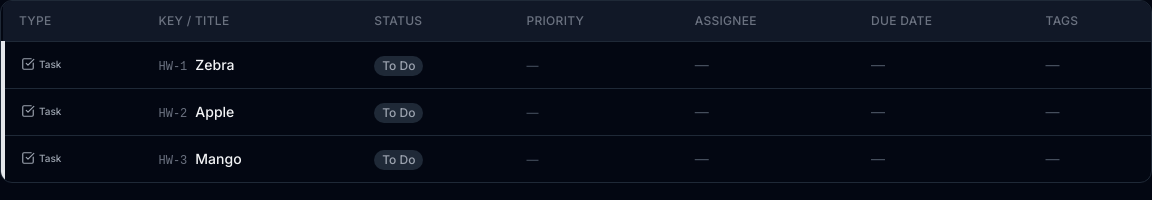
Test case: ListView › sorting › shows descending sort indicator on second click
The width and height of the screenshot is (1152, 200).
Click the text "Key / Title" at [194, 21], box [158,13,229,29]
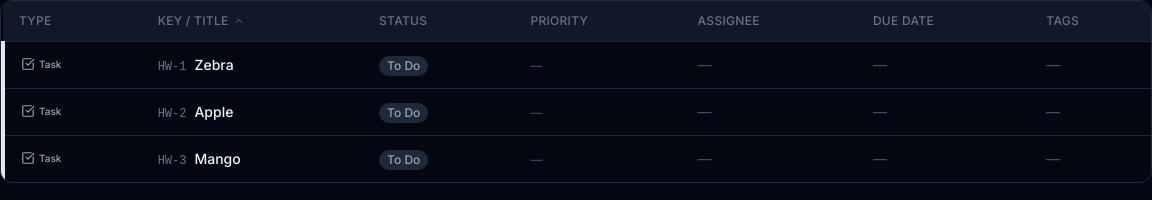
Click the text "Key / Title" at [201, 21], box [158,13,244,29]
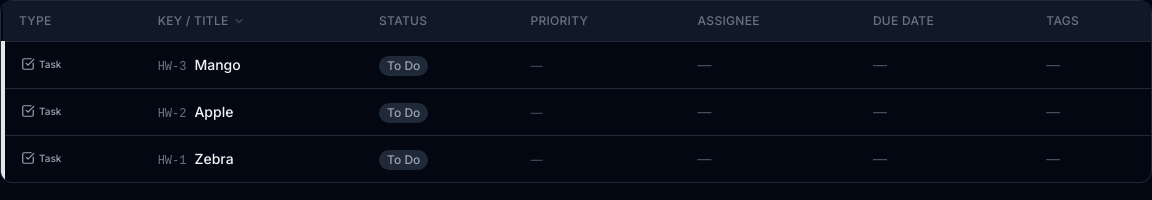
Expected: the icon named "sort descending" is shown, [233,15,245,27]
